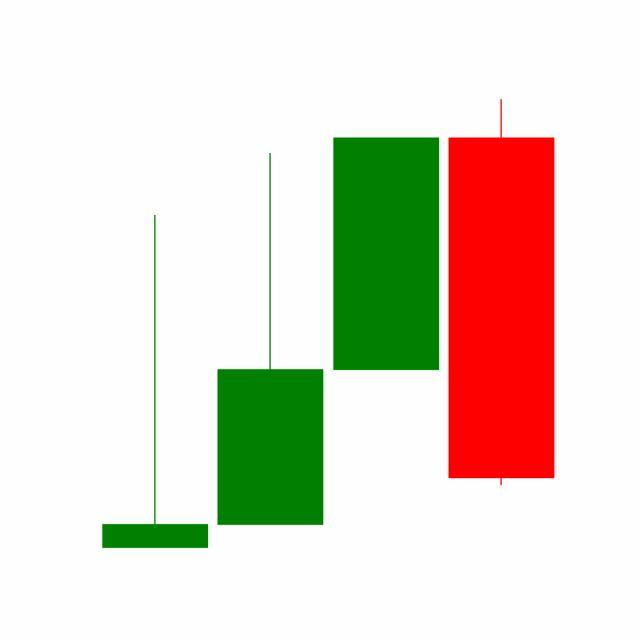Marubozu: (444, 95, 560, 490)
